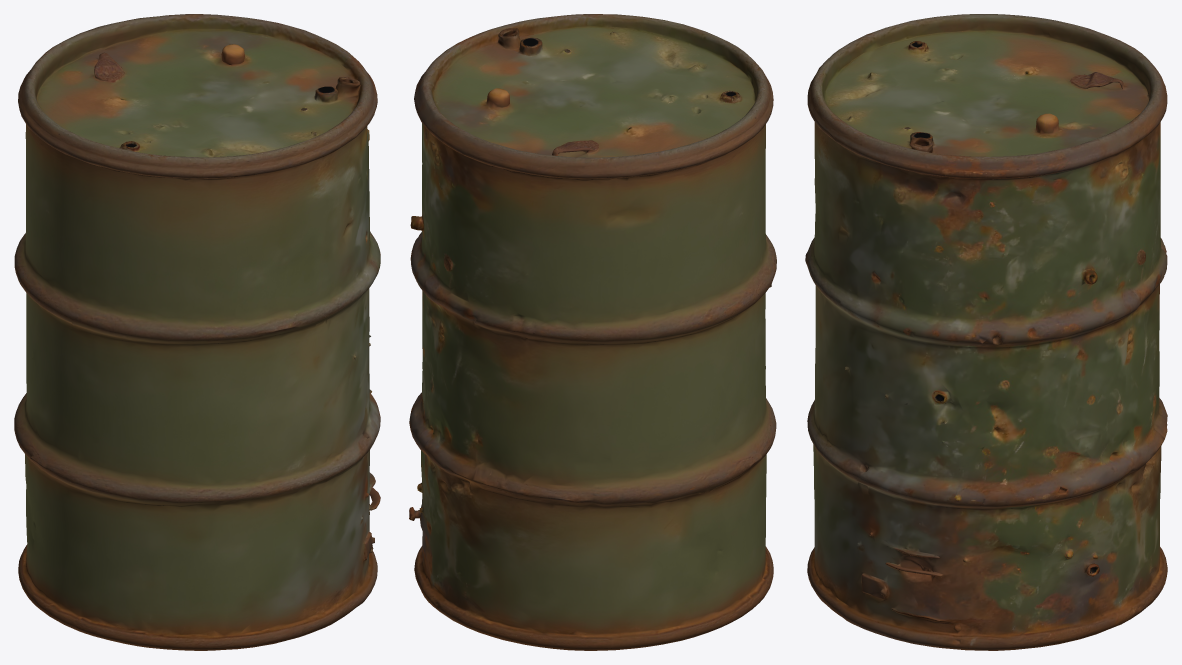
3 renders of one model, left to right at view 1: azimuth 30°, elevation 25°; view 2: azimuth 150°, elevation 25°; view 3: azimuth 270°, elevation 25°, orthographic.
Parts seen in each view (by area): view 1: tripo_node_be421d3f-9f9e-49ac-9dfd-937adedc5d16; view 2: tripo_node_be421d3f-9f9e-49ac-9dfd-937adedc5d16; view 3: tripo_node_be421d3f-9f9e-49ac-9dfd-937adedc5d16.
Part boxes in pixels (<box>): tripo_node_be421d3f-9f9e-49ac-9dfd-937adedc5d16: <box>14,14,380,650</box>; tripo_node_be421d3f-9f9e-49ac-9dfd-937adedc5d16: <box>409,14,776,650</box>; tripo_node_be421d3f-9f9e-49ac-9dfd-937adedc5d16: <box>805,14,1167,650</box>.
Bounding box in the file's own units: 0.676 × 1 × 0.6599.
Materials: 1 (1 with a texture image).
